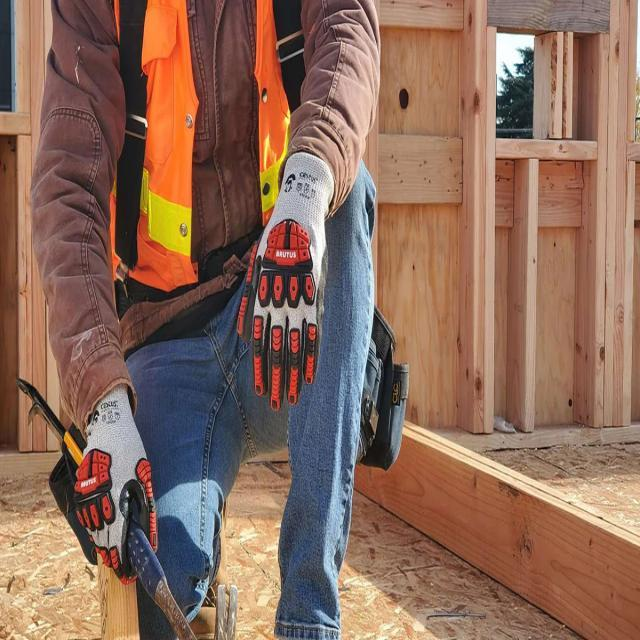gloves: (235, 148, 329, 416), (72, 378, 162, 592)
